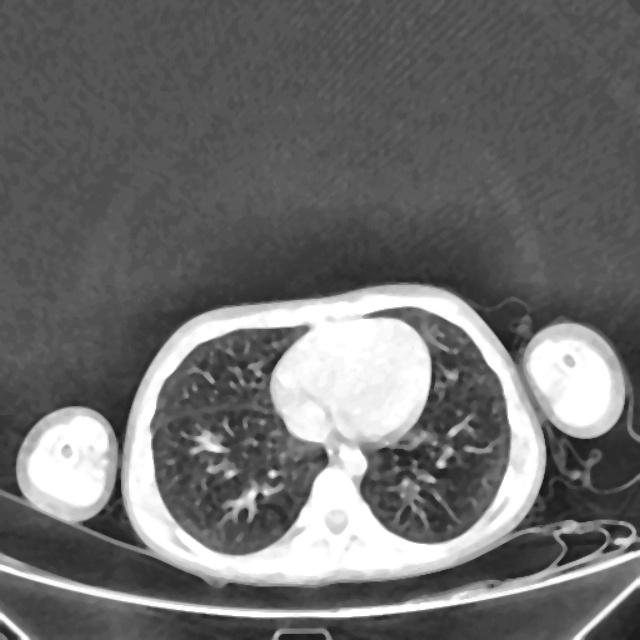covid: (119, 281, 547, 589)
